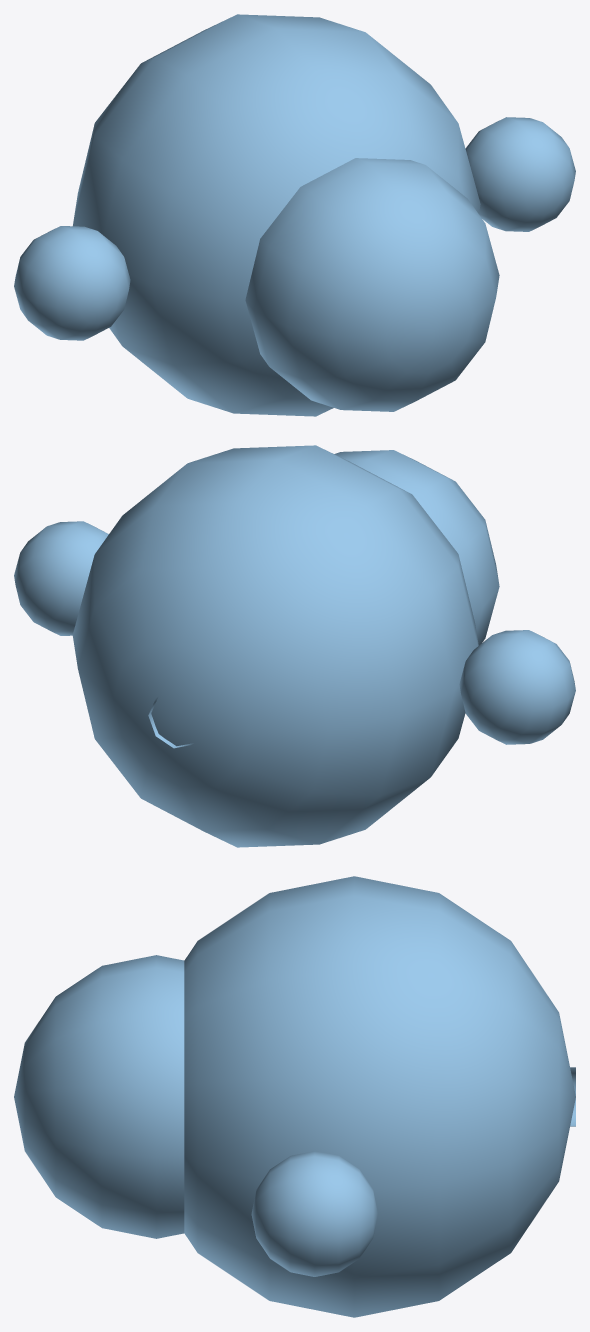
3 renders of one model, top to bottom at view 1: azimuth 30°, elevation 25°; view 2: azimuth 150°, elevation 25°; view 3: azimuth 270°, elevation 25°, orthographic. The views are drawn at different scales.
Parts seen in each view (by area): view 1: Emu; view 2: Emu; view 3: Emu.
Part boxes in pixels (left/top/right/bottom): Emu: left=14, top=14, right=575, bottom=416; Emu: left=14, top=445, right=575, bottom=847; Emu: left=14, top=876, right=575, bottom=1317.
Size of the model in its own units: 0.946 by 0.616 by 0.781.
